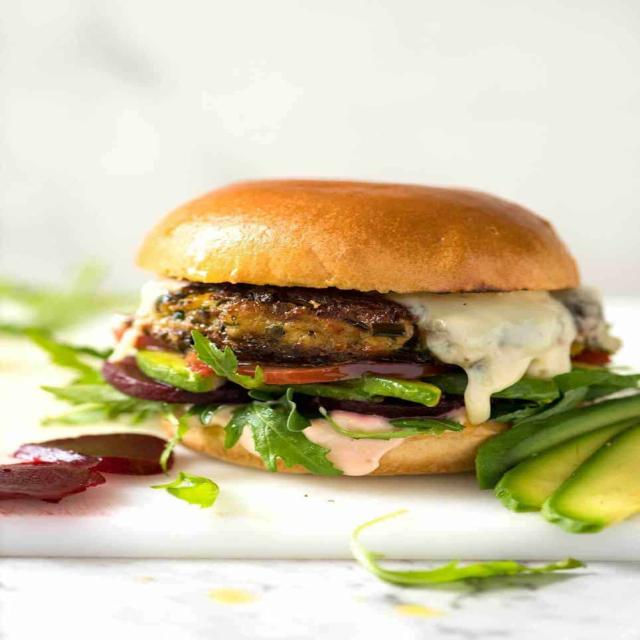burger: (119, 177, 593, 467)
